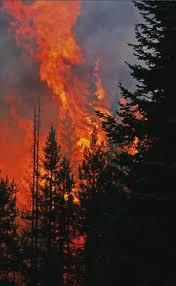fire: (0, 0, 136, 189)
